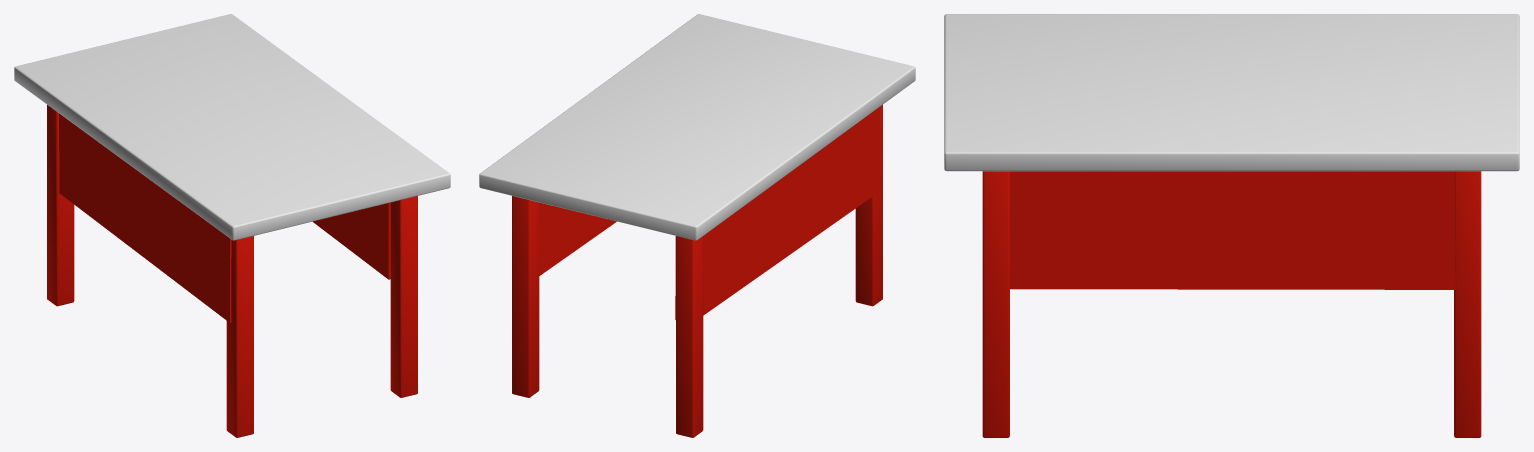
Rendered from table3.fbx.
3 views of the same model, side by side, from view 1: azimuth 30°, elevation 25°; view 2: azimuth 150°, elevation 25°; view 3: azimuth 270°, elevation 25° (orthographic). The views are drawn at different scales.
Parts seen in each view (by area): view 1: Cube, Cube.001, Cube.003, Cube.002; view 2: Cube, Cube.003, Cube.001, Cube.002; view 3: Cube, Cube.002, Cube.001.
Boxes of the visible parts, bbox=[...] form: Cube: bbox=[14, 14, 450, 240]; Cube.001: bbox=[47, 105, 417, 437]; Cube.003: bbox=[59, 113, 231, 322]; Cube.002: bbox=[313, 202, 390, 279]; Cube: bbox=[479, 14, 915, 240]; Cube.003: bbox=[675, 107, 880, 319]; Cube.001: bbox=[512, 105, 882, 437]; Cube.002: bbox=[539, 202, 616, 275]; Cube: bbox=[944, 14, 1519, 171]; Cube.002: bbox=[1010, 171, 1455, 289]; Cube.001: bbox=[982, 171, 1481, 437].
Size of the model in its own units: 462 by 459 by 806.
